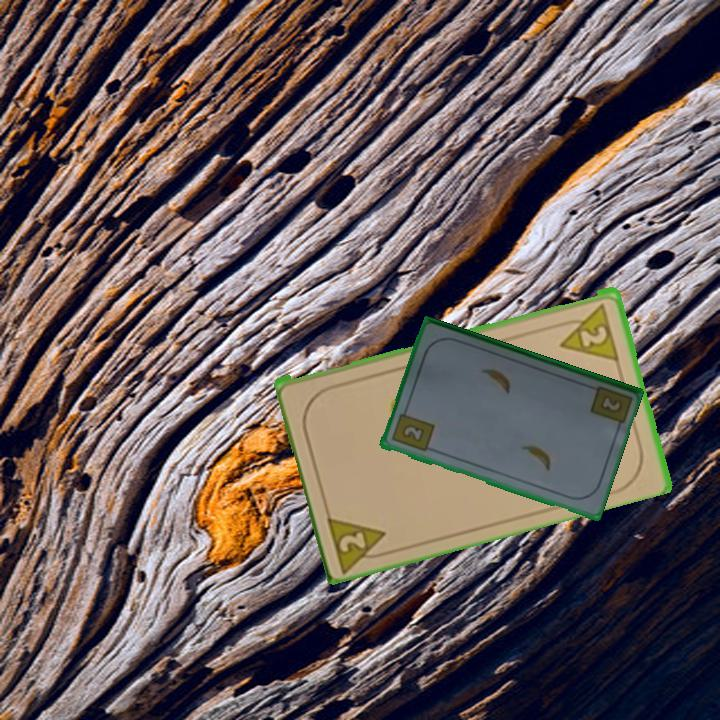2b: (388, 405, 437, 455), (596, 392, 623, 414)
2p: (323, 509, 396, 573), (553, 299, 622, 363)
